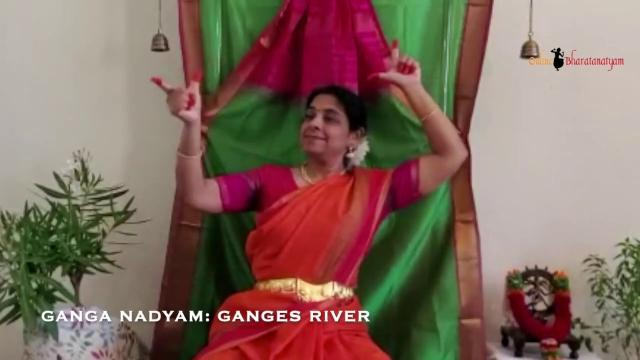chandrakala: (148, 64, 248, 138), (343, 24, 439, 96)
